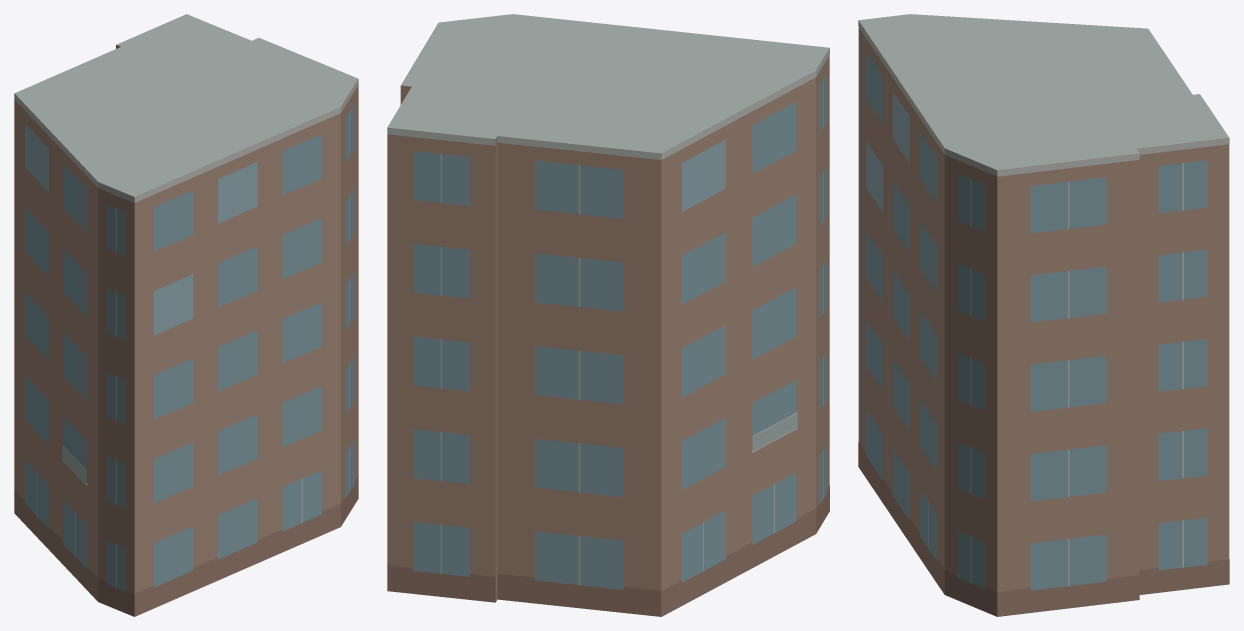
Rendered from survey-upis-32593242.glb.
3 renders of one model, left to right at view 1: azimuth 30°, elevation 25°; view 2: azimuth 150°, elevation 25°; view 3: azimuth 270°, elevation 25°, orthographic. The views are drawn at different scales.
Visible parts, largest first — view 1: survey-upis-32593242.tmp; view 2: survey-upis-32593242.tmp; view 3: survey-upis-32593242.tmp.
Boxes of the visible parts, x1,y1,x2,y2 form: survey-upis-32593242.tmp: (14, 14, 358, 616); survey-upis-32593242.tmp: (387, 14, 829, 616); survey-upis-32593242.tmp: (858, 14, 1229, 616).
Size of the model in its own units: 12.69 by 16.9 by 12.73.
